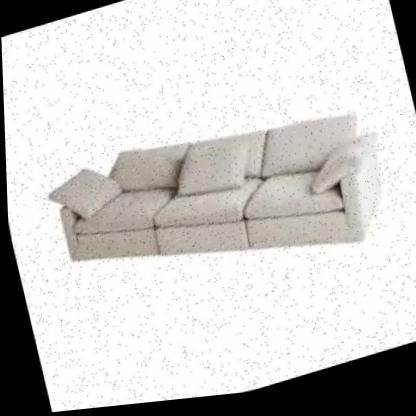Sofa: (18, 71, 416, 358)
